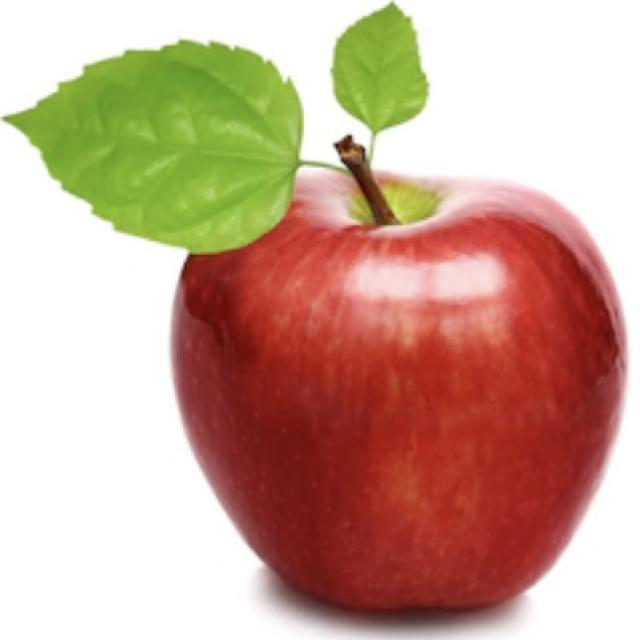Fresh Apple: (138, 155, 622, 612)
